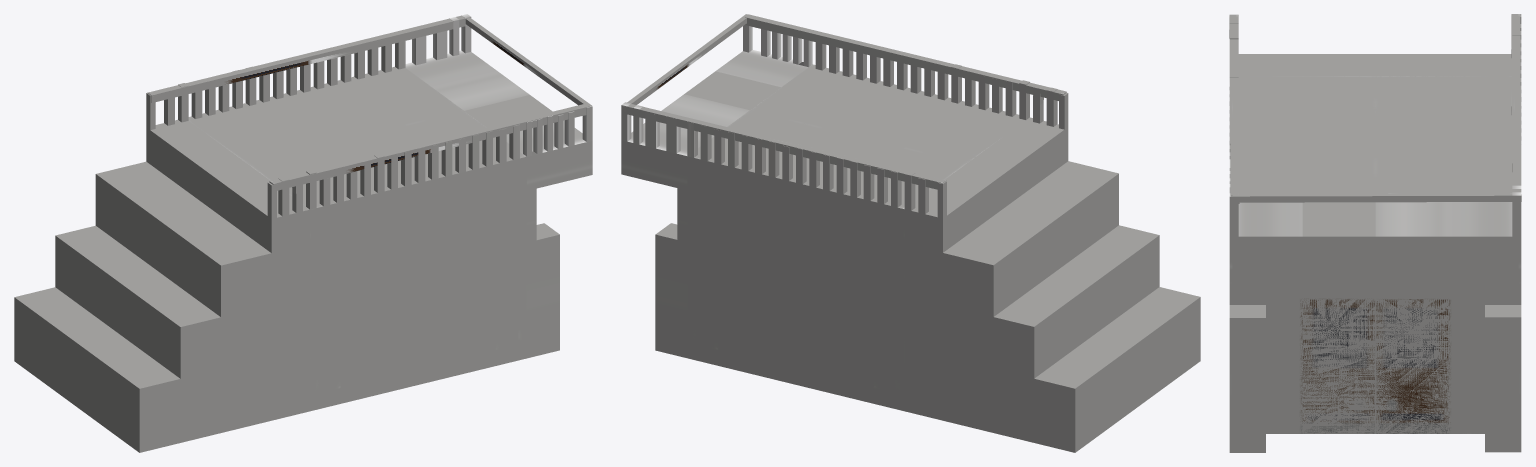
Rendered from underground exit.fbx.
The picture shows the model from 3 angles, left to right: view 1: azimuth 30°, elevation 25°; view 2: azimuth 150°, elevation 25°; view 3: azimuth 270°, elevation 25°; orthographic projection. The views are drawn at different scales.
Visible parts, largest first — view 1: Cube; view 2: Cube; view 3: Cube.
Boxes of the visible parts, x1,y1,x2,y2 form: Cube: (14, 14, 592, 452); Cube: (621, 14, 1200, 452); Cube: (1229, 14, 1521, 452).
Size of the model in its own units: 418 by 209 by 200.
